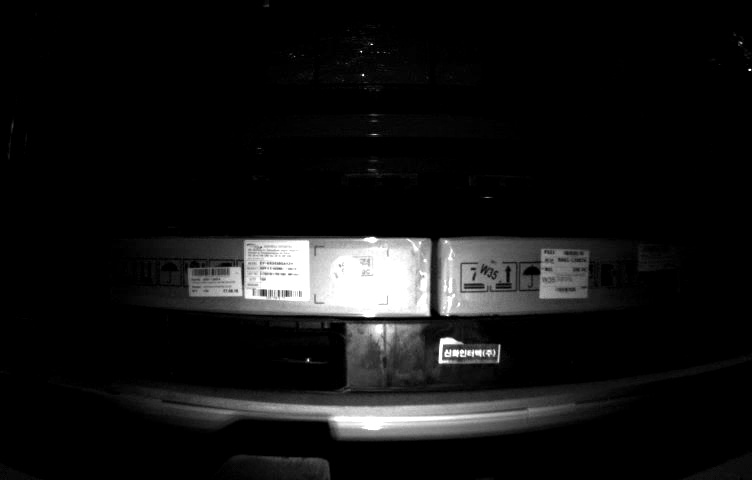True Barcode: (538, 244, 587, 301)
